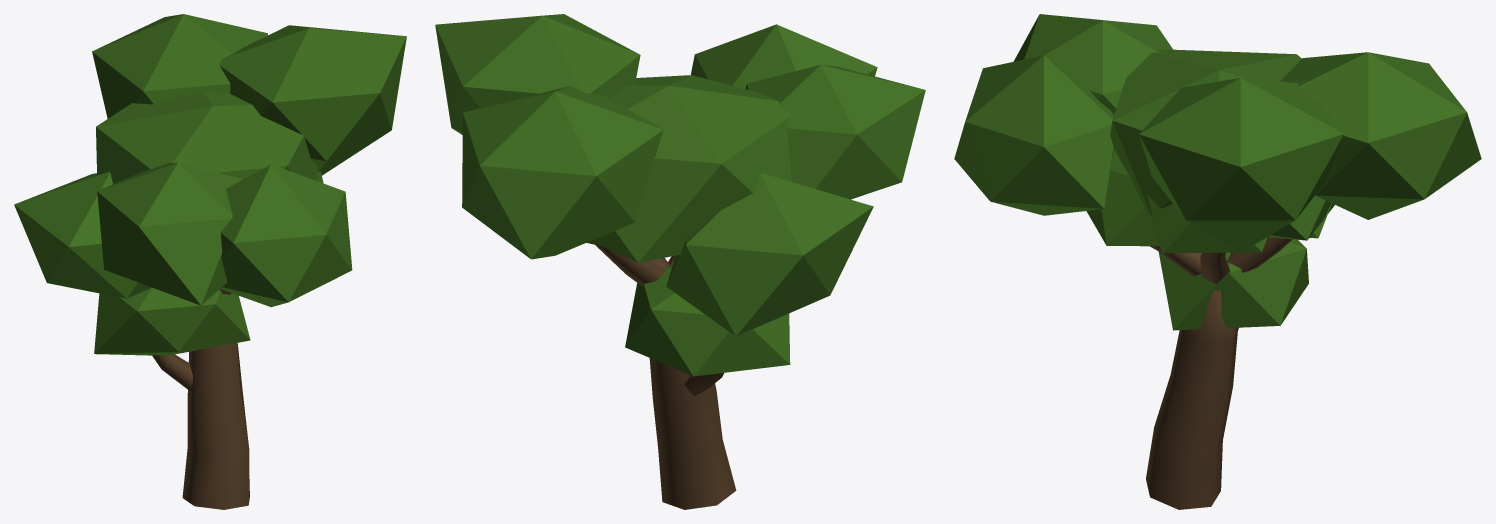
The model's file is oak.glb.
The picture shows the model from 3 angles, left to right: view 1: azimuth 30°, elevation 25°; view 2: azimuth 150°, elevation 25°; view 3: azimuth 270°, elevation 25°; orthographic projection. The views are drawn at different scales.
Parts seen in each view (by area): view 1: oak; view 2: oak; view 3: oak.
Part boxes in pixels (x1,y1,x2,y2): oak: [14, 14, 406, 509]; oak: [435, 14, 925, 509]; oak: [954, 14, 1481, 509].
Size of the model in its own units: 5.09 by 5.66 by 5.62.
